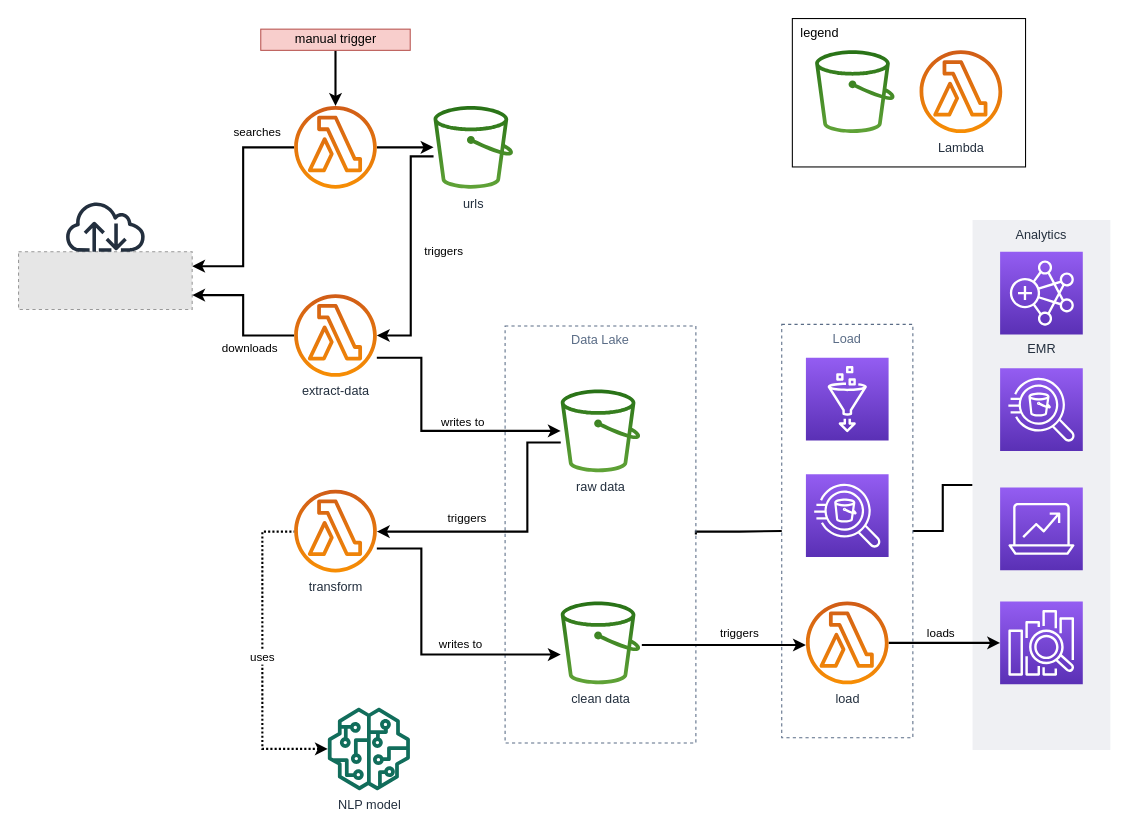
The diagram is 1129 pixels wide and 831 high, and some of its shapes have lost their labels. Grey dashed boxes stand in for pictures. Here are the shapes that lost their labels. From the top down, the centre of each, then its label:
At pixel 854 91: "Amazon S3".
At pixel 335 147: "url-search".
At pixel 847 398: "AWS Glue".
At pixel 1041 409: "Amazon Athena".
At pixel 847 515: "Glue Data Brew".
At pixel 1041 528: "Other Analytics".
At pixel 1041 642: "Amazon ElasticSearch Service".
